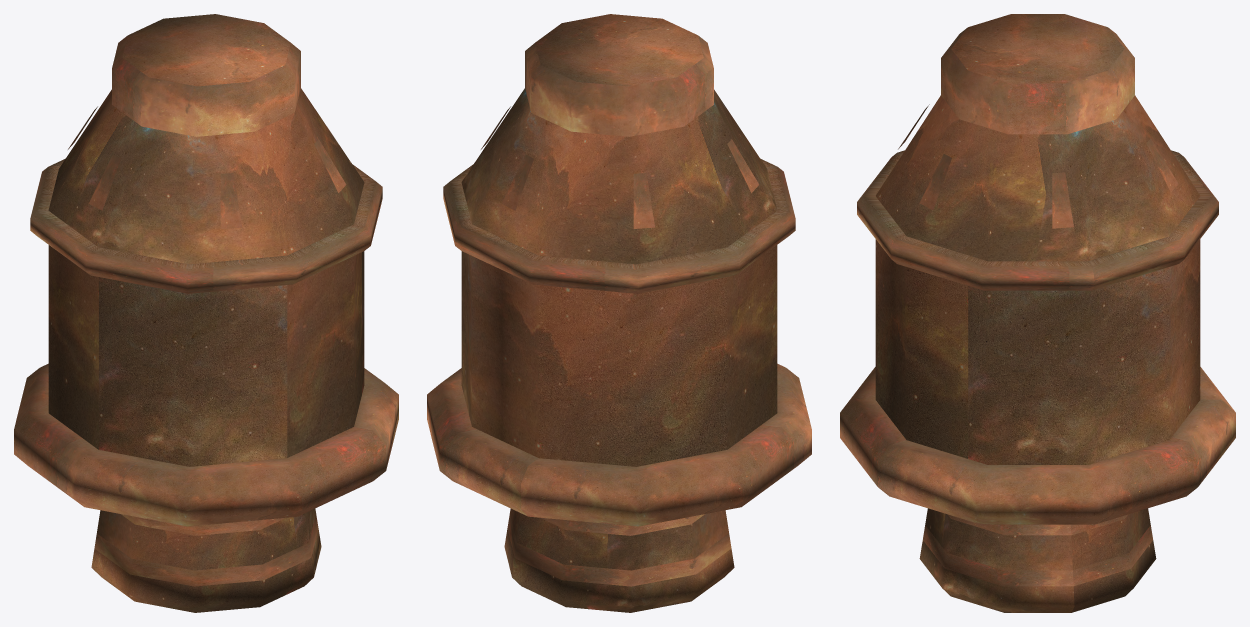
File: basePlatform.fbx
3 views of the same model, side by side, from view 1: azimuth 30°, elevation 25°; view 2: azimuth 150°, elevation 25°; view 3: azimuth 270°, elevation 25° (orthographic).
Parts seen in each view (by area): view 1: Platform_base; view 2: Platform_base; view 3: Platform_base.
Part boxes in pixels (x1,y1,x2,y2): Platform_base: (14, 14, 398, 612); Platform_base: (427, 14, 811, 612); Platform_base: (840, 14, 1235, 612).
Size of the model in its own units: 46.24 by 70.6 by 48.62.
Materials: 1 (1 with a texture image).
